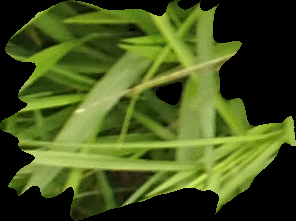grass: (1, 1, 295, 220)
